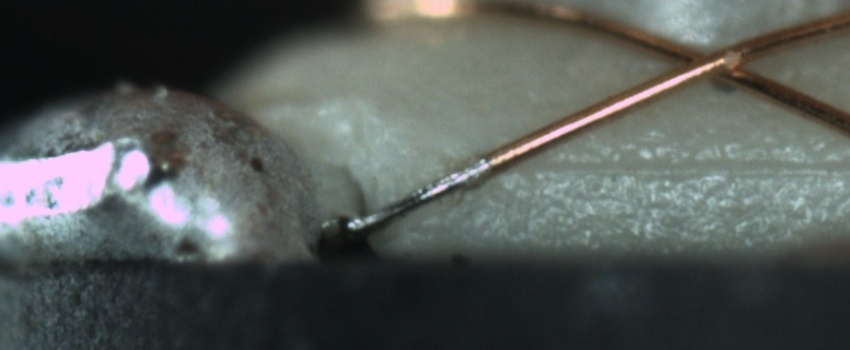CL: (648, 32, 773, 90)
DL: (516, 131, 849, 193)
TS: (346, 160, 491, 235)
TTCW: (343, 137, 541, 235)
